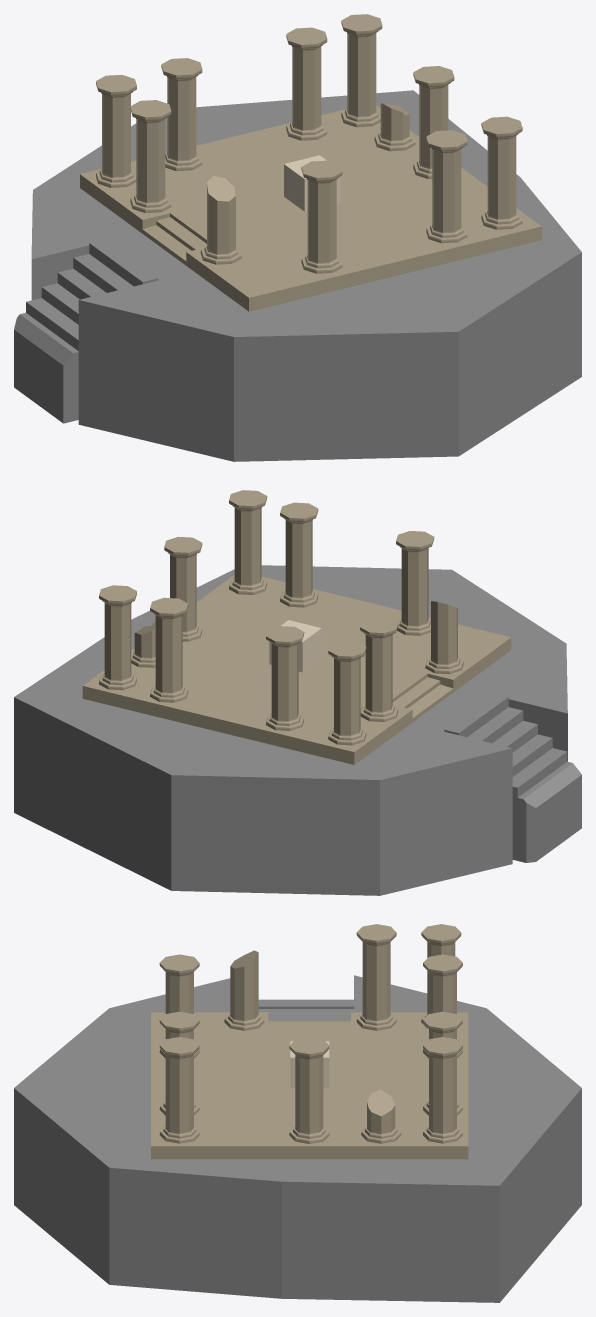
The model's file is Monument_Top_of_Rock.fbx.
3 renders of one model, top to bottom at view 1: azimuth 30°, elevation 25°; view 2: azimuth 150°, elevation 25°; view 3: azimuth 270°, elevation 25°, orthographic. The views are drawn at different scales.
Parts seen in each view (by area): view 1: Monument_Rock_Statue; view 2: Monument_Rock_Statue; view 3: Monument_Rock_Statue.
Boxes of the visible parts, left/top/right/bottom form: Monument_Rock_Statue: left=14, top=14, right=581, bottom=461; Monument_Rock_Statue: left=14, top=490, right=581, bottom=895; Monument_Rock_Statue: left=14, top=924, right=581, bottom=1302.
Size of the model in its own units: 1133 by 1040 by 484.
